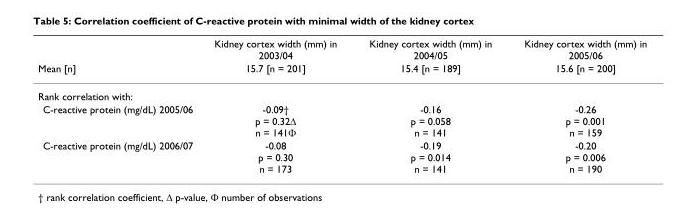table: (37, 37, 646, 174)
table column: (37, 37, 202, 174), (352, 37, 507, 174), (202, 37, 352, 174), (507, 37, 646, 174)
table column header: (37, 37, 646, 81)
table projected row header: (37, 81, 646, 102)
table row: (37, 102, 646, 138), (37, 138, 646, 174), (37, 37, 646, 61), (37, 81, 646, 102), (37, 61, 646, 81)
table spanning cell: (37, 37, 202, 81), (352, 37, 507, 81), (202, 37, 352, 81), (507, 37, 646, 81)
